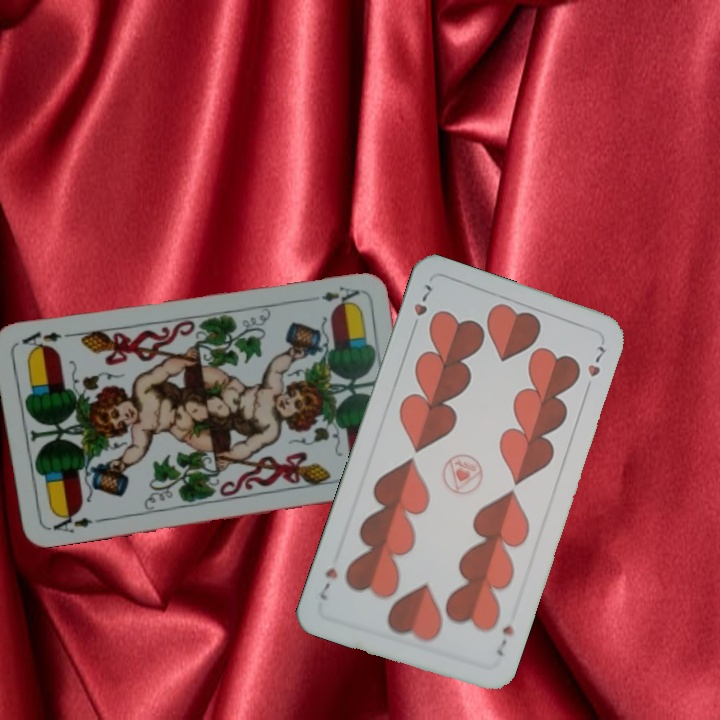EA: (44, 507, 95, 536), (317, 282, 363, 310)
H7: (407, 280, 434, 335), (492, 621, 516, 659)
